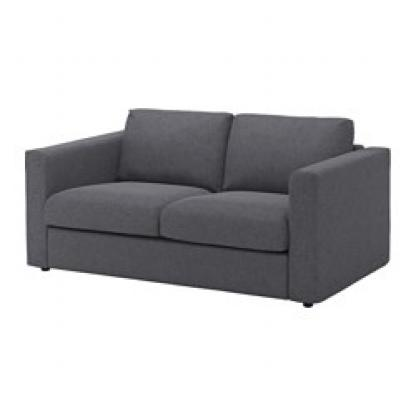Sofa: (12, 90, 396, 314)
